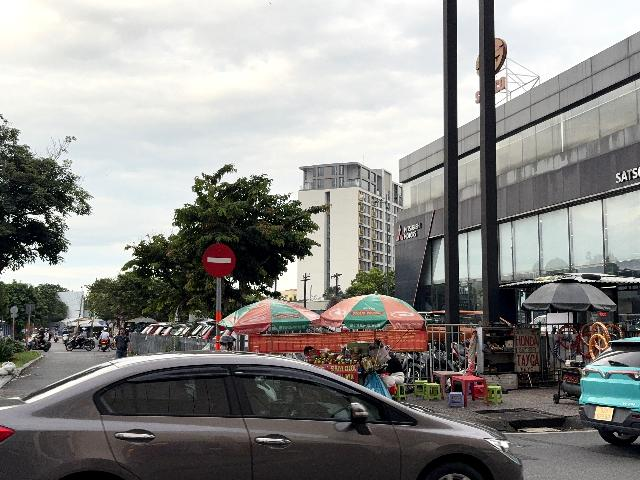cam-di-nguoc-chieu: (202, 244, 236, 278)
